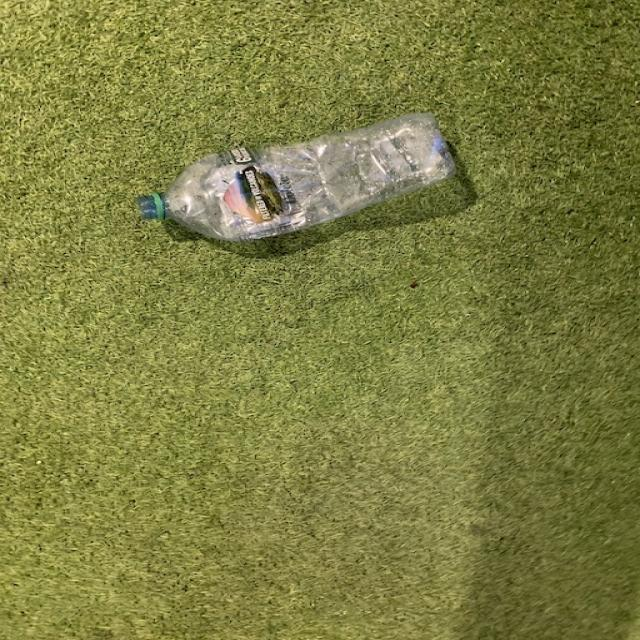litter: (132, 110, 466, 246)
